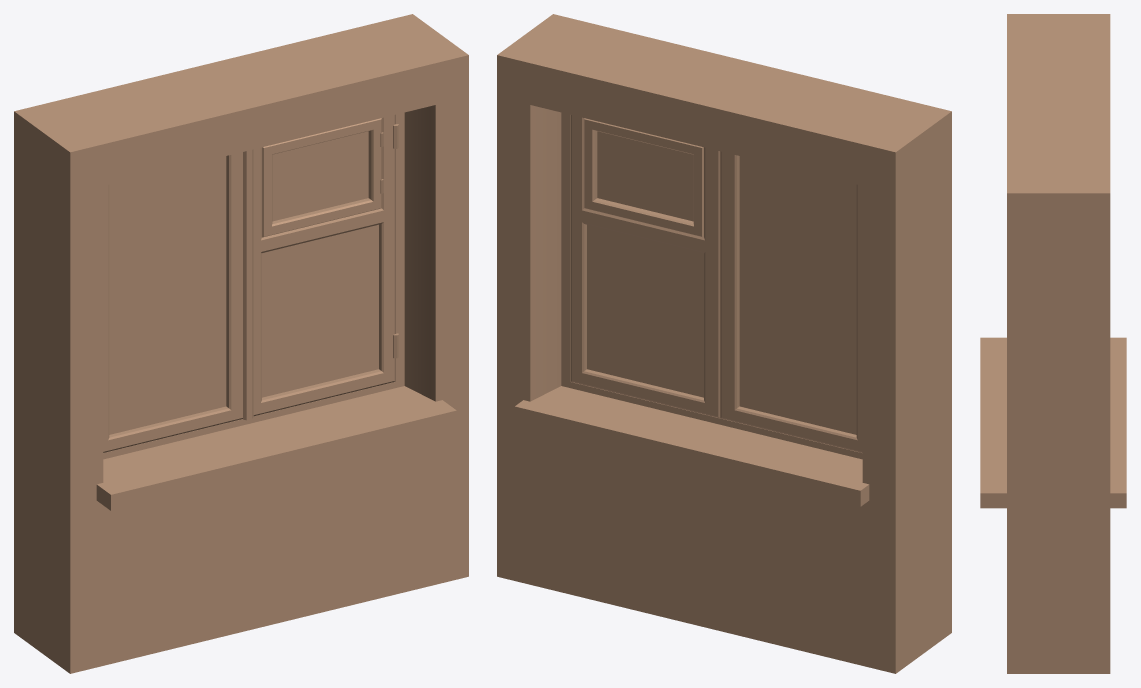
Rendered from room_window_01.fbx.
3 renders of one model, left to right at view 1: azimuth 30°, elevation 25°; view 2: azimuth 150°, elevation 25°; view 3: azimuth 270°, elevation 25°, orthographic. The views are drawn at different scales.
Parts seen in each view (by area): view 1: polySurface13, pPlane87, pCube66, pCube67, pCube69, pCube71, pCube70, pCube68; view 2: polySurface13, pPlane87, pCube66, pCube67, pCube69, pCube71, pCube70; view 3: polySurface13, pCube66.
Boxes of the visible parts, left/top/right/bottom form: polySurface13: left=14, top=14, right=468, bottom=673; pPlane87: left=109, top=131, right=378, bottom=434; pCube66: left=96, top=386, right=456, bottom=510; pCube67: left=253, top=115, right=394, bottom=416; pCube69: left=103, top=152, right=242, bottom=452; pCube71: left=103, top=112, right=404, bottom=459; pCube70: left=262, top=118, right=381, bottom=237; pCube68: left=243, top=149, right=253, bottom=420; polySurface13: left=497, top=14, right=951, bottom=673; pPlane87: left=587, top=131, right=856, bottom=434; pCube66: left=514, top=386, right=869, bottom=506; pCube67: left=571, top=115, right=720, bottom=417; pCube69: left=720, top=151, right=862, bottom=452; pCube71: left=561, top=112, right=862, bottom=459; pCube70: left=584, top=118, right=703, bottom=237; polySurface13: left=1007, top=14, right=1110, bottom=673; pCube66: left=980, top=337, right=1126, bottom=508.
Size of the model in its own units: 200 by 250 by 68.83.
